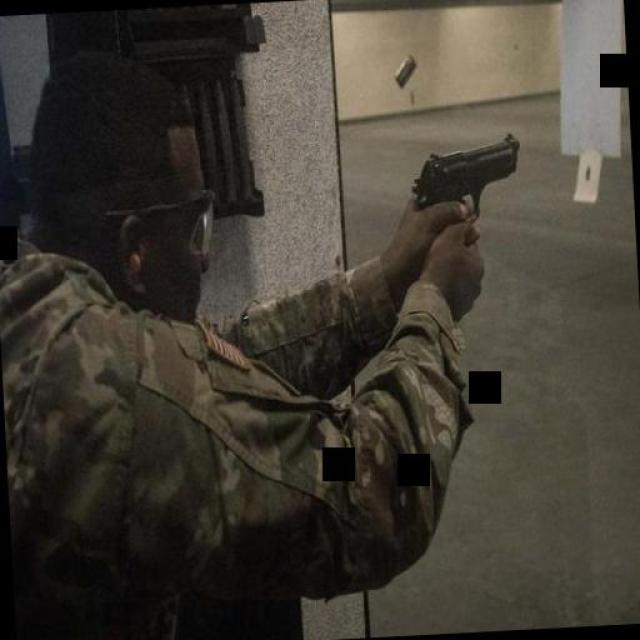gun: (404, 131, 525, 245)
